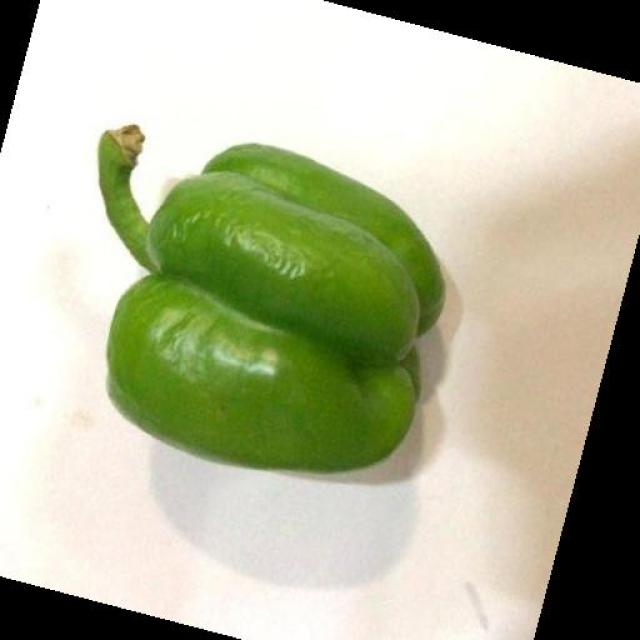Fresh_Capsicum: (87, 134, 447, 451)
